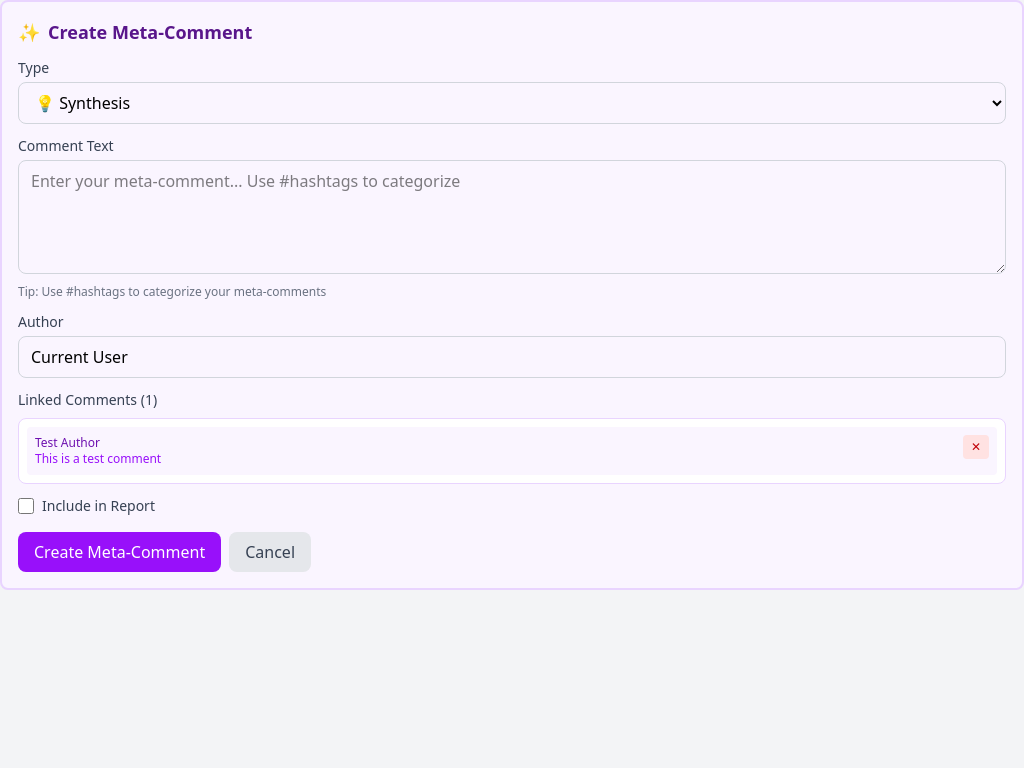
Test: MetaCommentForm › should allow removing linked comments
Check: the text "Linked Comments (1)" is shown, box x1=18 y1=390 x2=157 y2=409
Click remove button
Click the button titled "Remove link". click: {"x": 976, "y": 447}
box: x1=963 y1=435 x2=989 y2=459
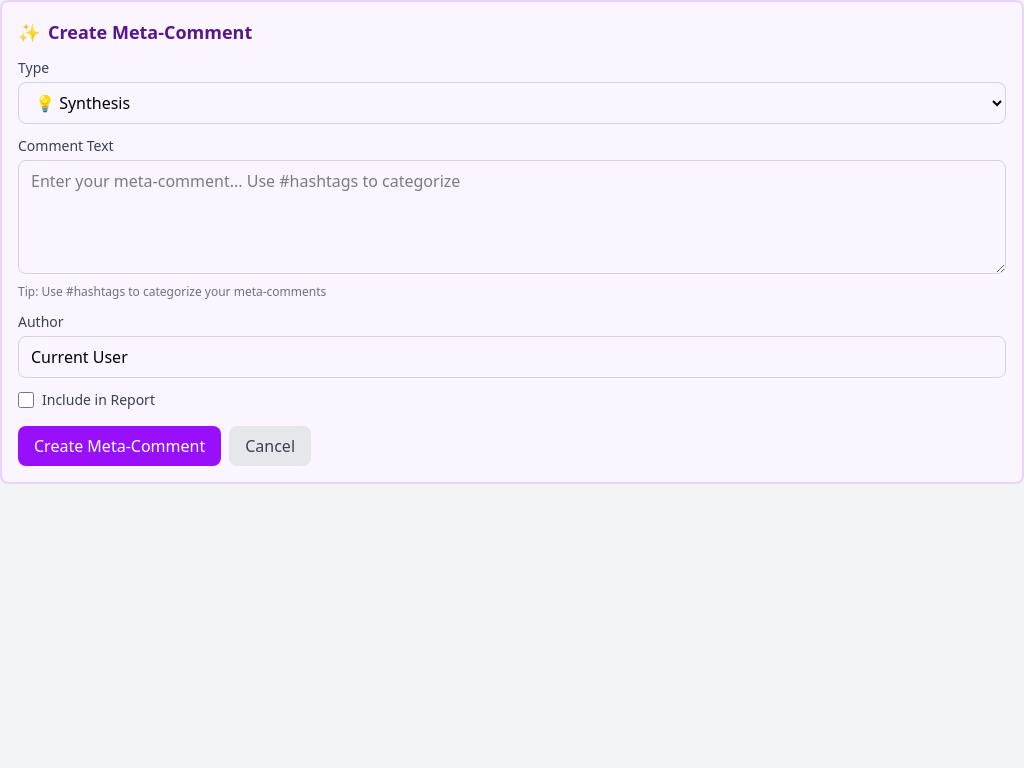
Check: the text "Linked Comments (1)" is gone
